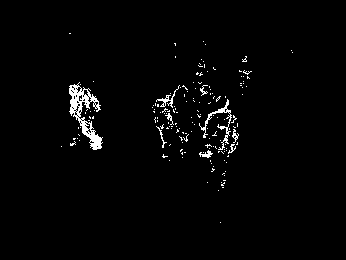person: (203, 95, 239, 189), (66, 84, 103, 150), (171, 84, 194, 156), (152, 96, 175, 159)
